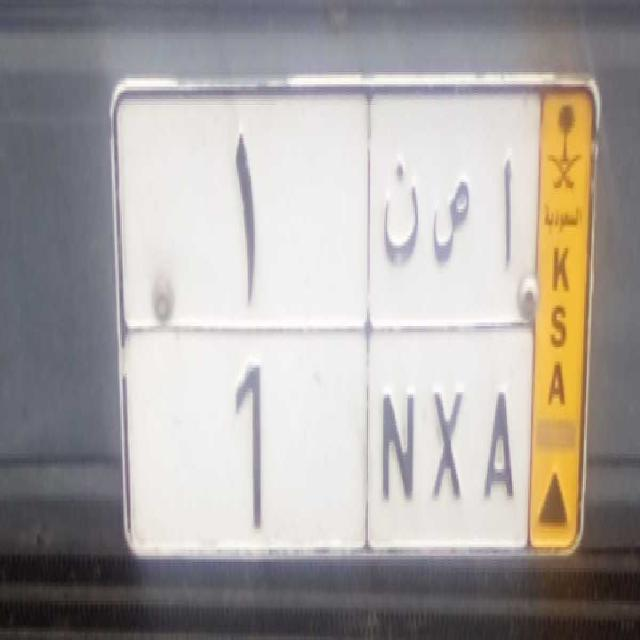license_plate: (124, 322, 530, 548)
